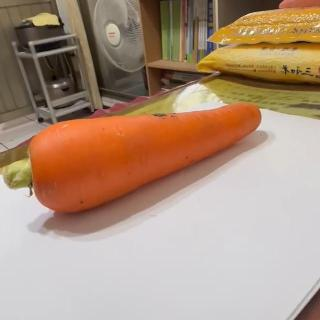carrot: (2, 100, 262, 216)
